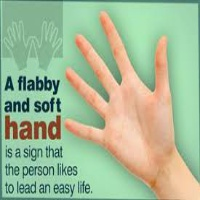ring: (57, 69, 113, 122)
